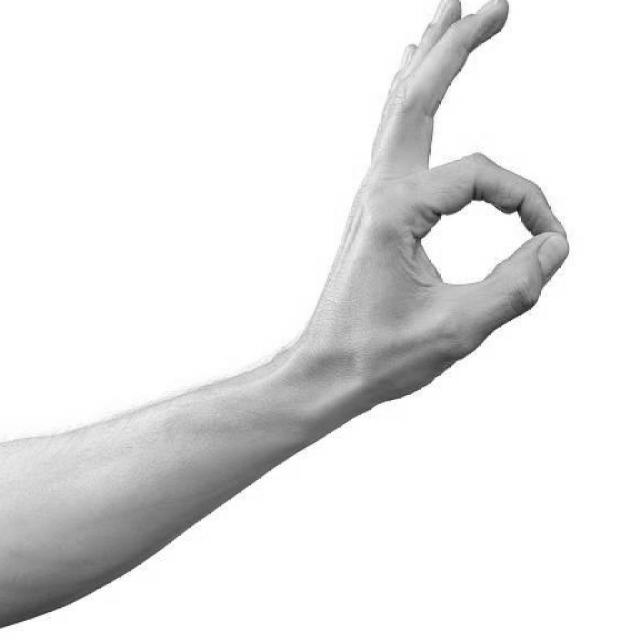perfect: (281, 0, 577, 436)
